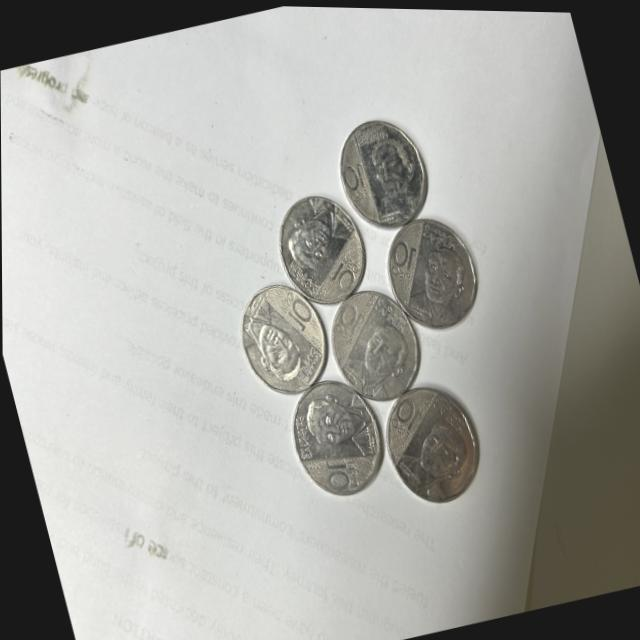10_New_Front: (272, 279, 319, 338), (317, 449, 365, 495), (382, 234, 416, 289), (329, 294, 367, 343), (320, 248, 361, 293), (336, 148, 373, 197), (383, 396, 419, 440)
